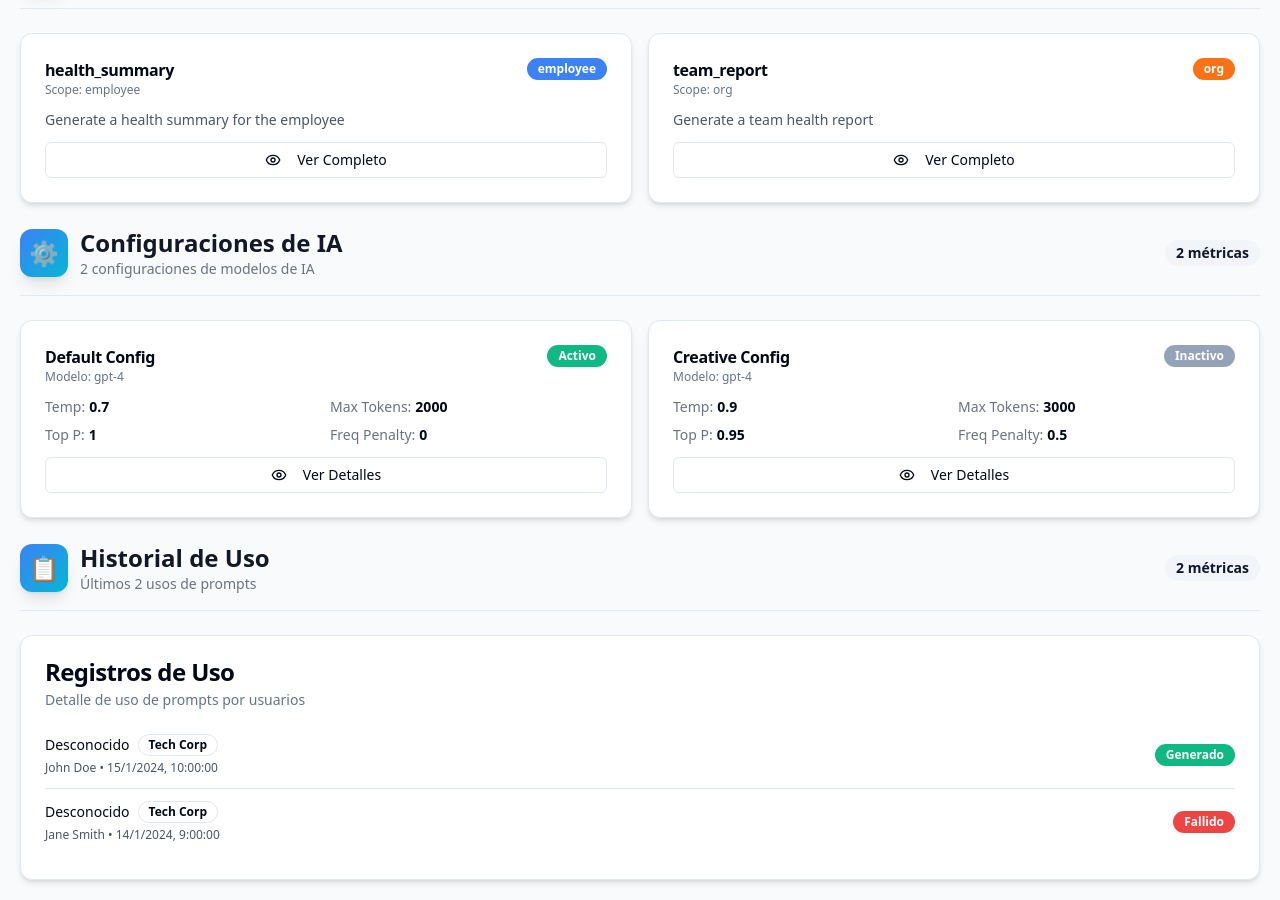
it: AdminPrompts › Modal Interactions › should close config detail modal on close button click
(page scrolled)
Click the button "Ver Detalles" below "0.7" at point(326, 475), box [45, 457, 607, 493]
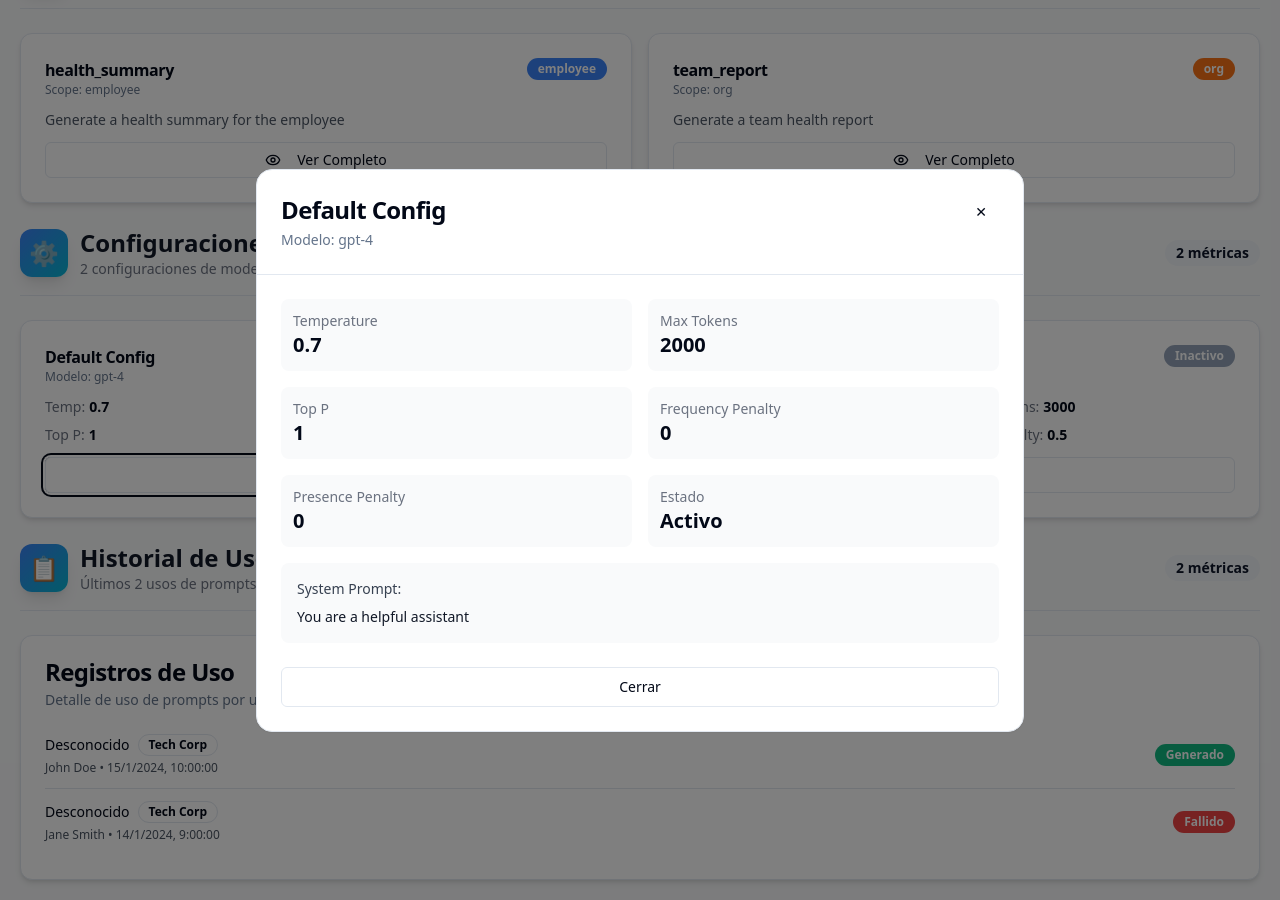
Now the text "System Prompt:" is shown, box [297, 578, 401, 598]
Click the button "Cerrar" at point(640, 686), box [281, 666, 999, 706]
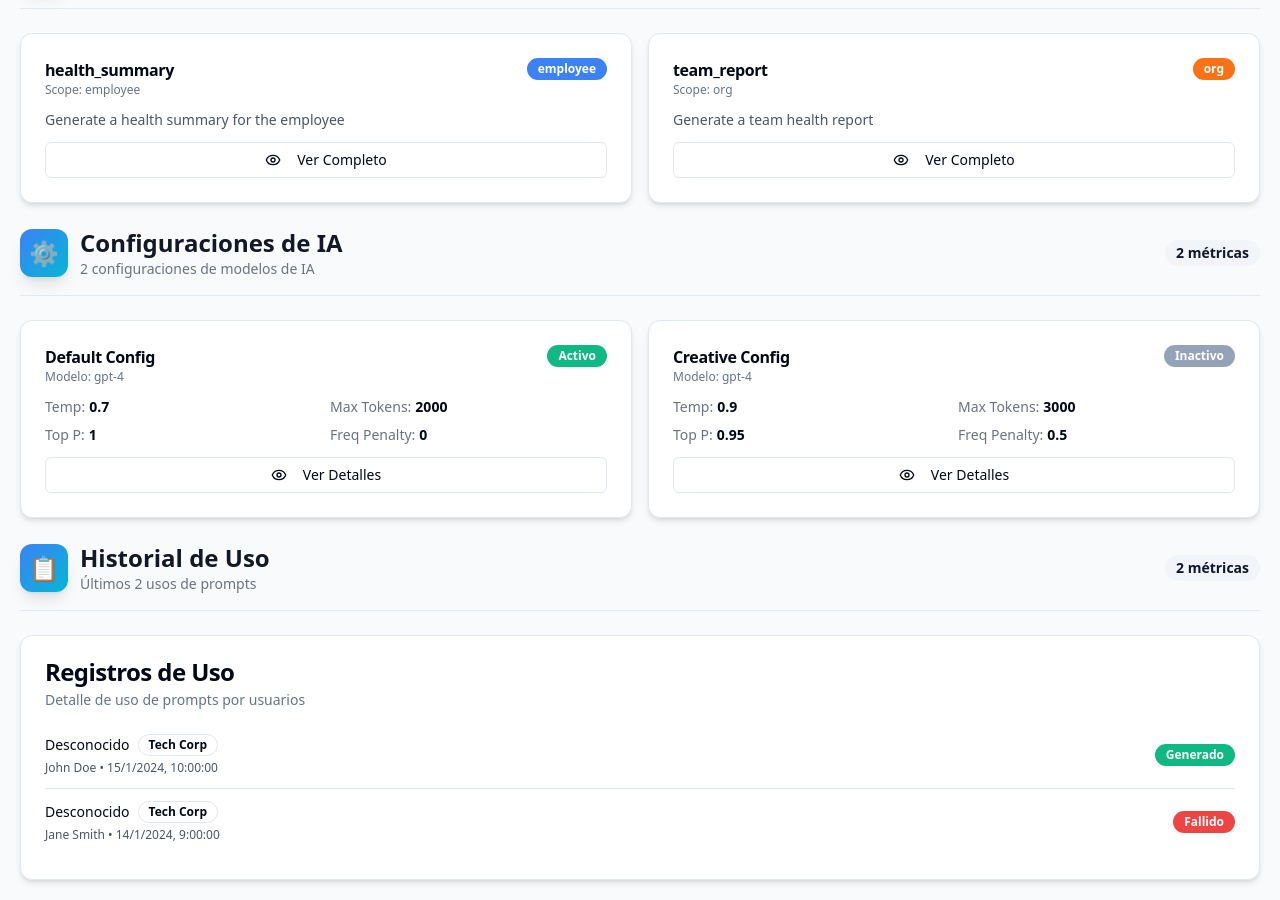
Now the text "System Prompt:" is gone
